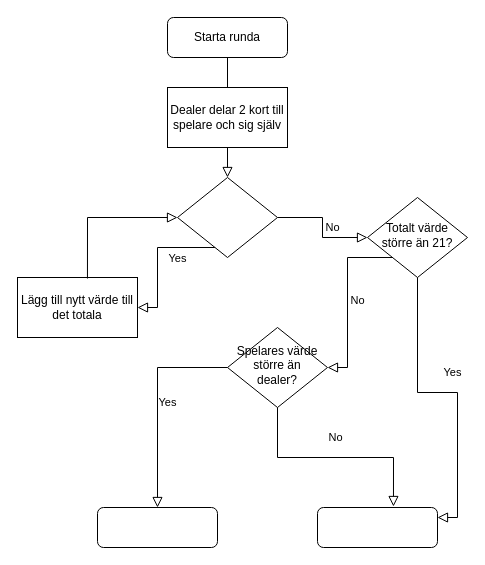
This 485x565 diagram has some shape labels left out. Here are the shapes that lost their labels. From the top down, the box of each, then its label:
(176, 176, 278, 258): Spelare drar ett nytt kort
(96, 506, 218, 548): Spelare vinner
(316, 506, 438, 548): Dealer vinner
